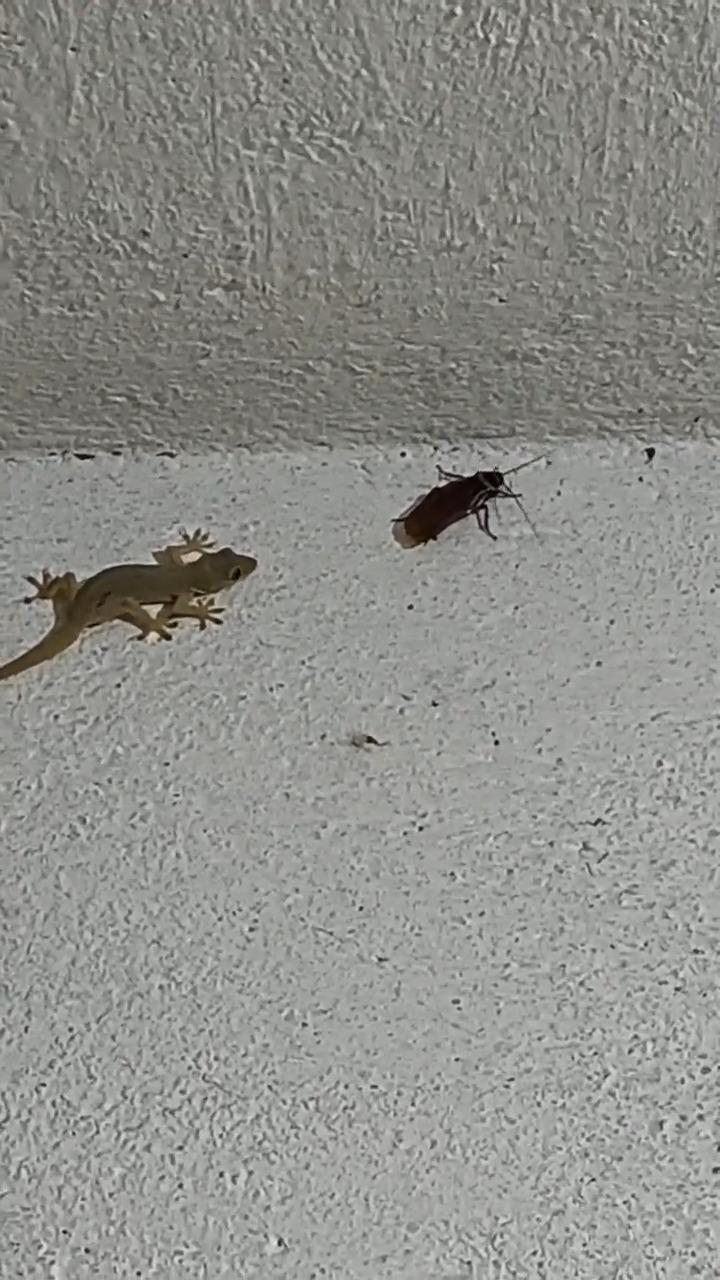cockroach: (373, 448, 547, 566)
lizard: (0, 518, 277, 688)
